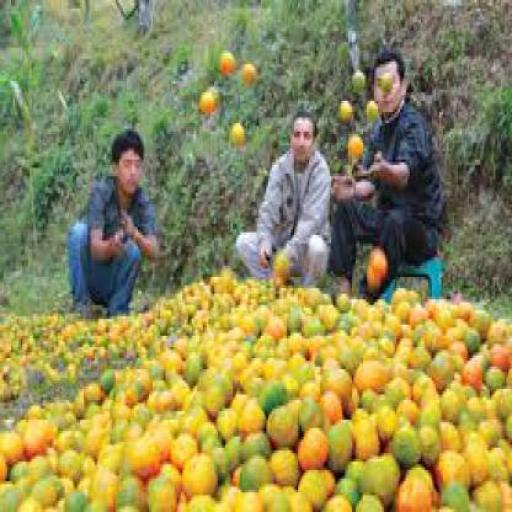biodegradable: (160, 266, 236, 332), (2, 310, 98, 358), (97, 305, 158, 358), (2, 353, 26, 397), (2, 428, 26, 464), (370, 244, 389, 288), (38, 352, 64, 384), (67, 346, 84, 381), (2, 482, 20, 509), (275, 250, 292, 276), (10, 456, 29, 478), (232, 118, 248, 142), (350, 132, 365, 156), (206, 82, 222, 104), (354, 65, 368, 89), (201, 90, 216, 112), (341, 96, 356, 118), (222, 48, 236, 70), (18, 476, 34, 495), (2, 448, 12, 478), (246, 59, 259, 81), (369, 96, 382, 118), (382, 64, 395, 86)
